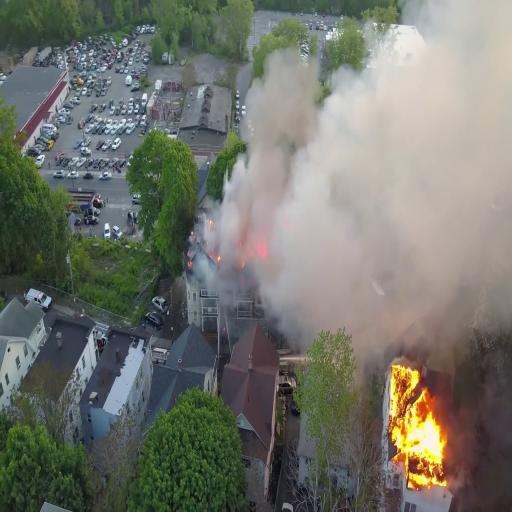fire: (379, 370, 449, 479)
smoke: (248, 171, 349, 292)
